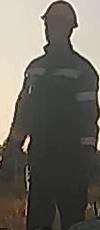gloves: (0, 137, 20, 183)
helmet: (39, 0, 79, 32)
vest: (21, 50, 100, 158)
